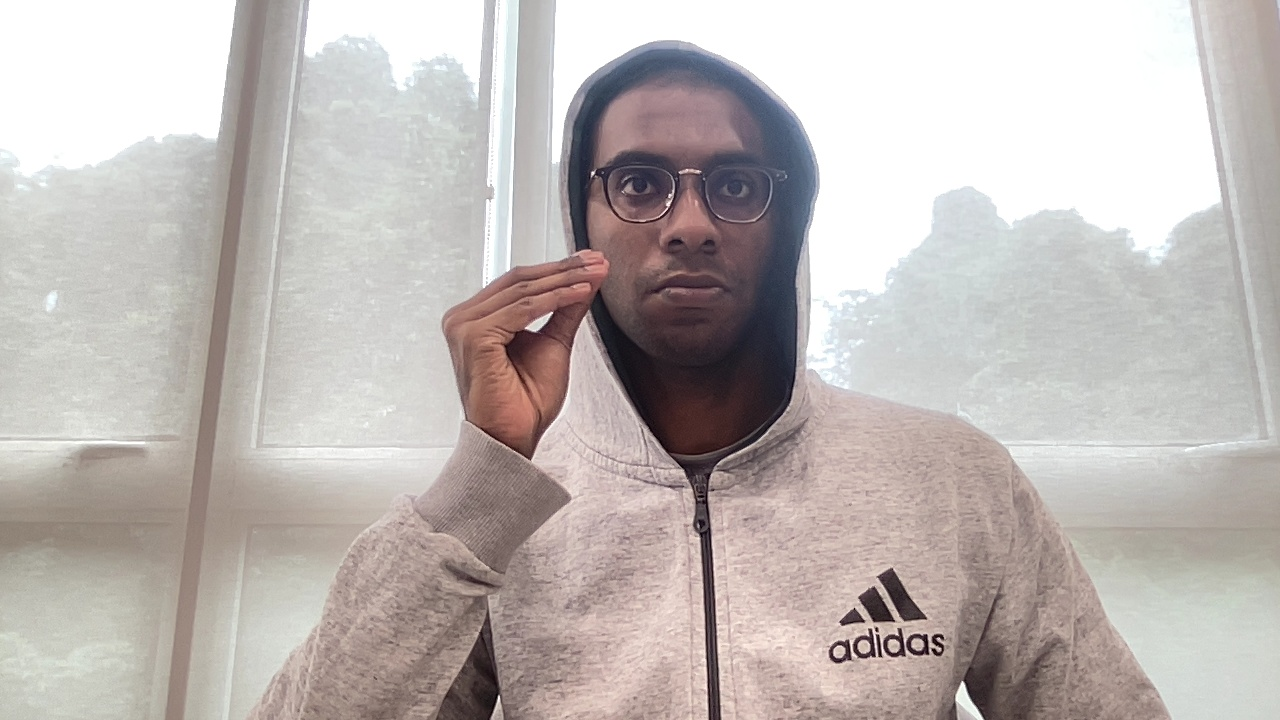eat: (439, 243, 615, 446)
